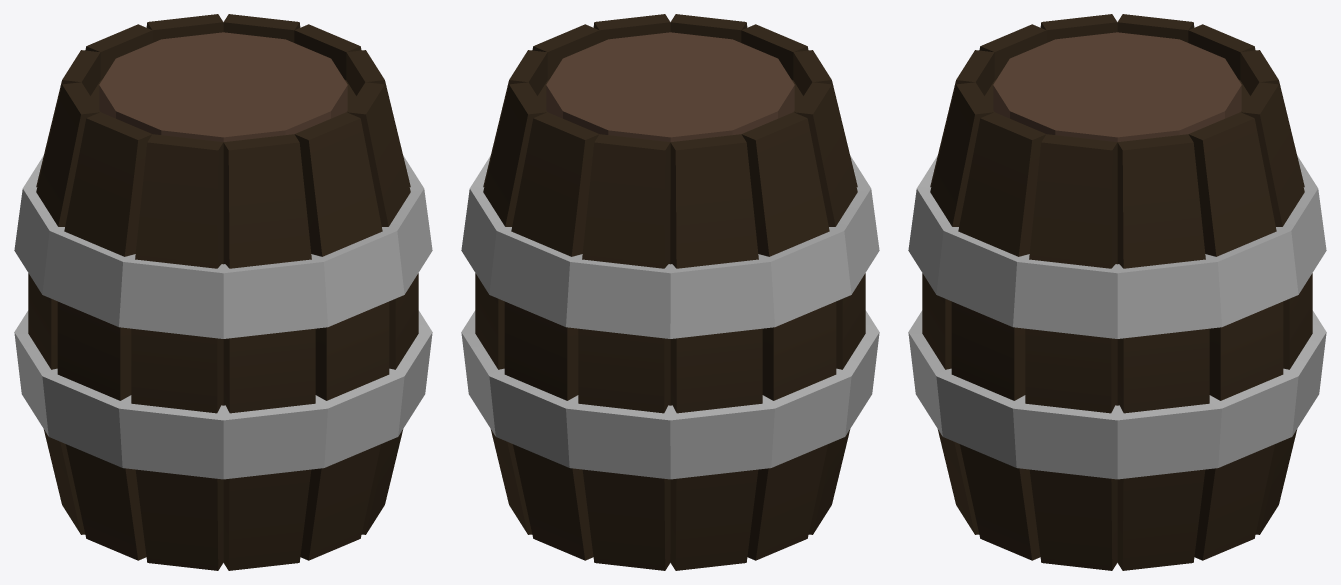
The model's file is barril.fbx.
3 views of the same model, side by side, from view 1: azimuth 30°, elevation 25°; view 2: azimuth 150°, elevation 25°; view 3: azimuth 270°, elevation 25° (orthographic).
Parts seen in each view (by area): view 1: barril; view 2: barril; view 3: barril.
Boxes of the visible parts, x1,y1,x2,y2 form: barril: [14, 14, 432, 570]; barril: [461, 14, 879, 570]; barril: [908, 14, 1326, 570].
Bounding box in the file's own units: 99.6 × 110 × 99.6.
